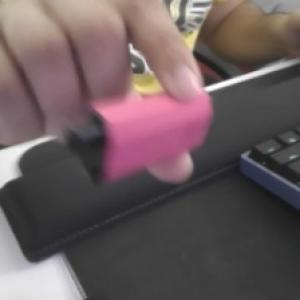Blume-E-Ciggirate: (62, 84, 216, 190)
